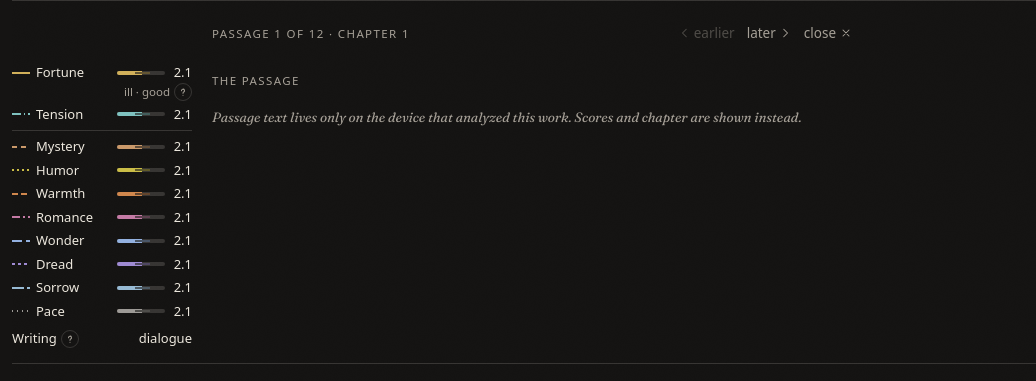
Scenario: scores are bars out of 4 with the number beside them, the scale's ends named once, and no ± left
Step 1. Click the button named "What the range means" → point(183, 92), box [174,82,192,100]
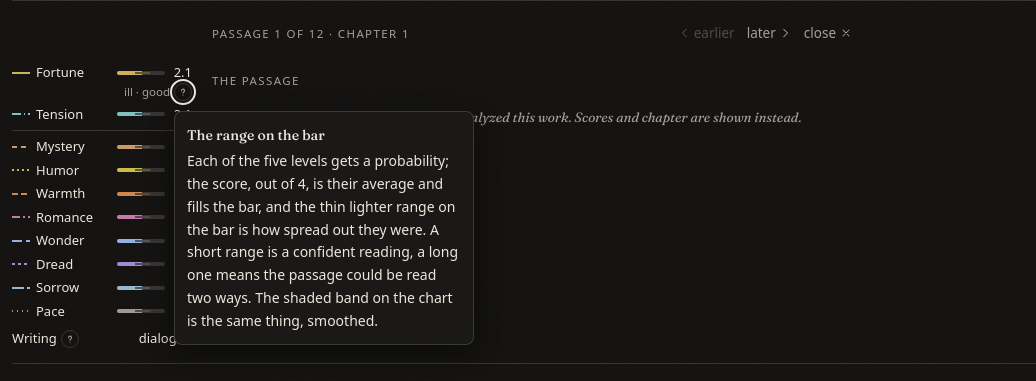
Now the text "range on the bar is how spread out they were" is shown, box [187,151,458,330]
